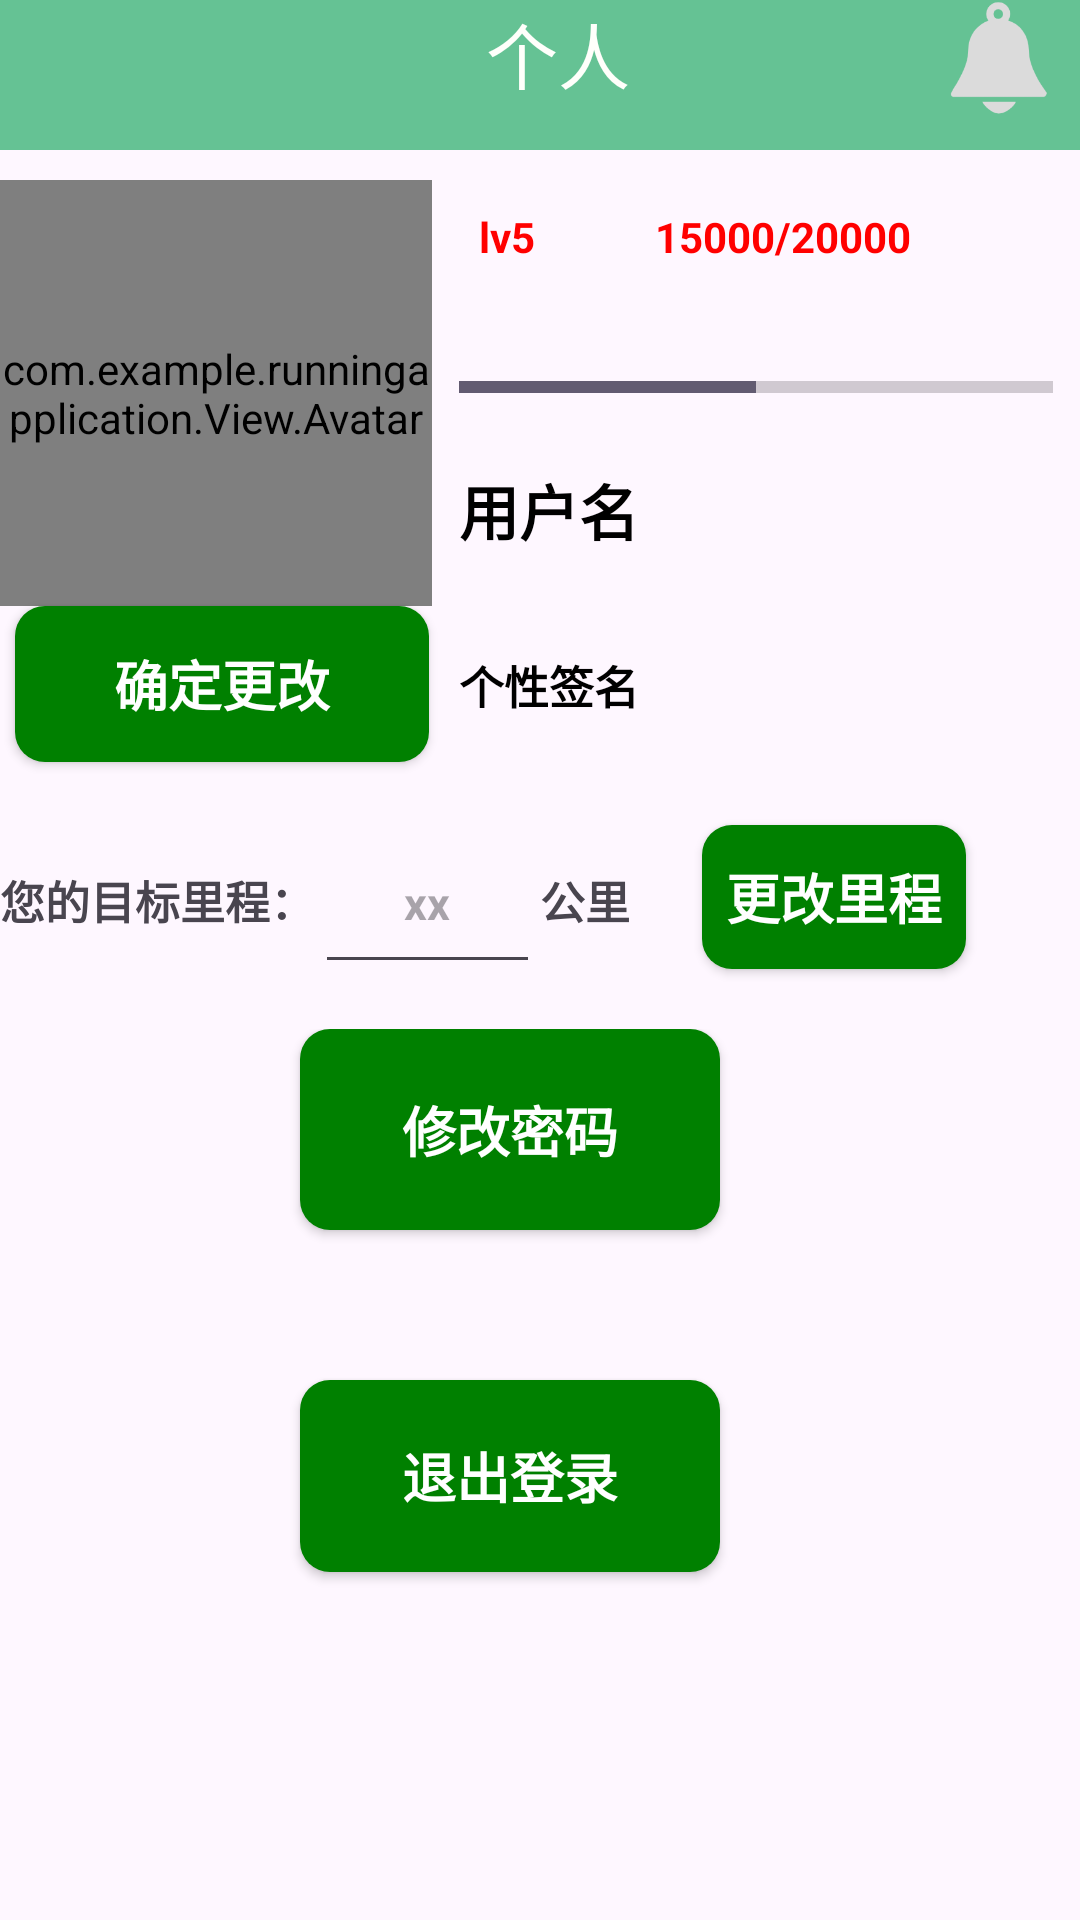

Where to tap for icons on this 1080w x 1920h app screen, as (x,y):
remind: (999,58)
